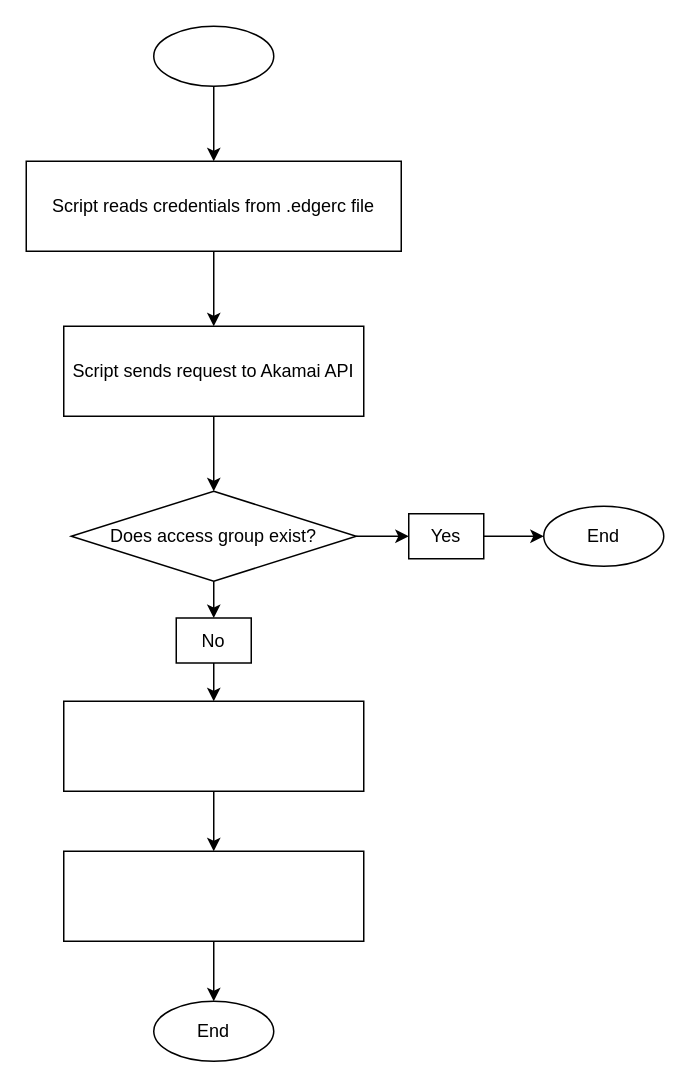
Some shapes in this 690 by 1088 pixel diagram are drawn without their labels. The shapes that lost their labels are listed below. From the top down, each one's centre as x and y in pixels, then its label:
At pixel 213 55: "Start".
At pixel 213 745: "Create new access group".
At pixel 213 895: "API sends confirmation response".
